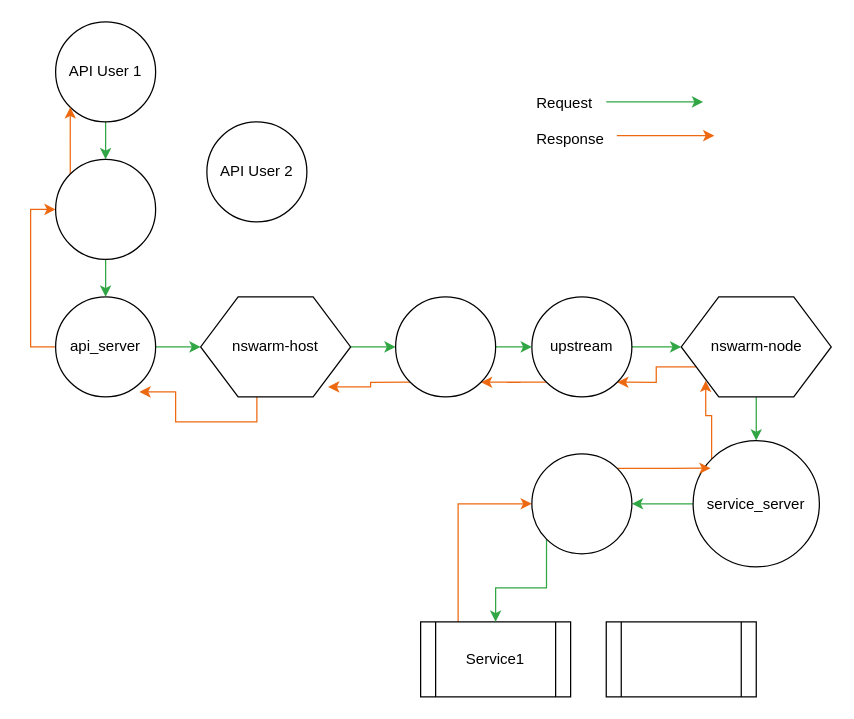
This 854x719 diagram has some shape labels left out. The centre of each missing label's shape, as x and y in pixels:
"api_sdk" goes at pixel 105 208.
"node_server" goes at pixel 445 346.
"Service2" goes at pixel 680 659.
"service_sdk" goes at pixel 581 503.
